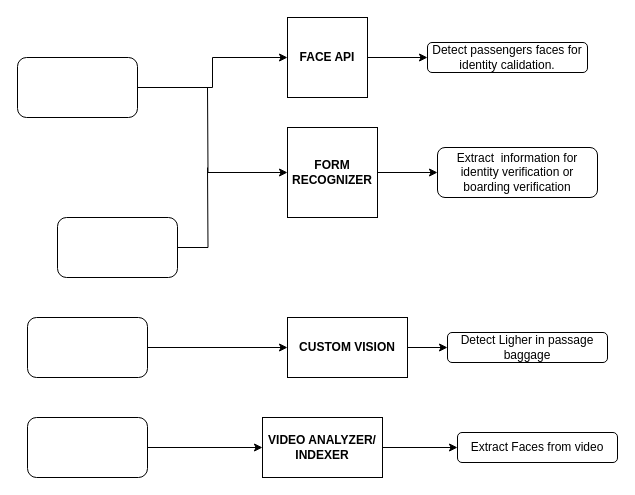
This 635x495 diagram has some shape labels left out. The centre of each missing label's shape, as x and y in pixels:
"BOARDING PASS" goes at (x=117, y=247).
"DRIVER LICENCE/ ID" goes at (x=77, y=87).
"LIGHTER IMAGE" goes at (x=87, y=347).
"VIDEO SAMPLE FROM KIOSK" goes at (x=87, y=447).
